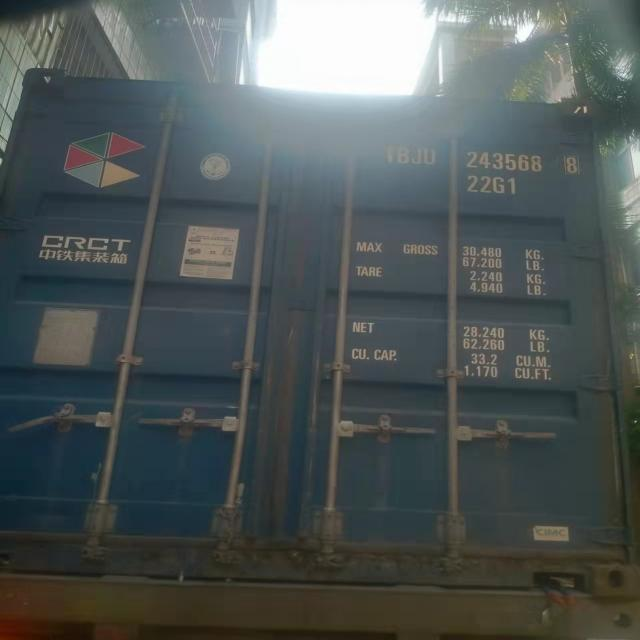ISO: (470, 176, 518, 197)
container_number: (368, 142, 582, 174)
